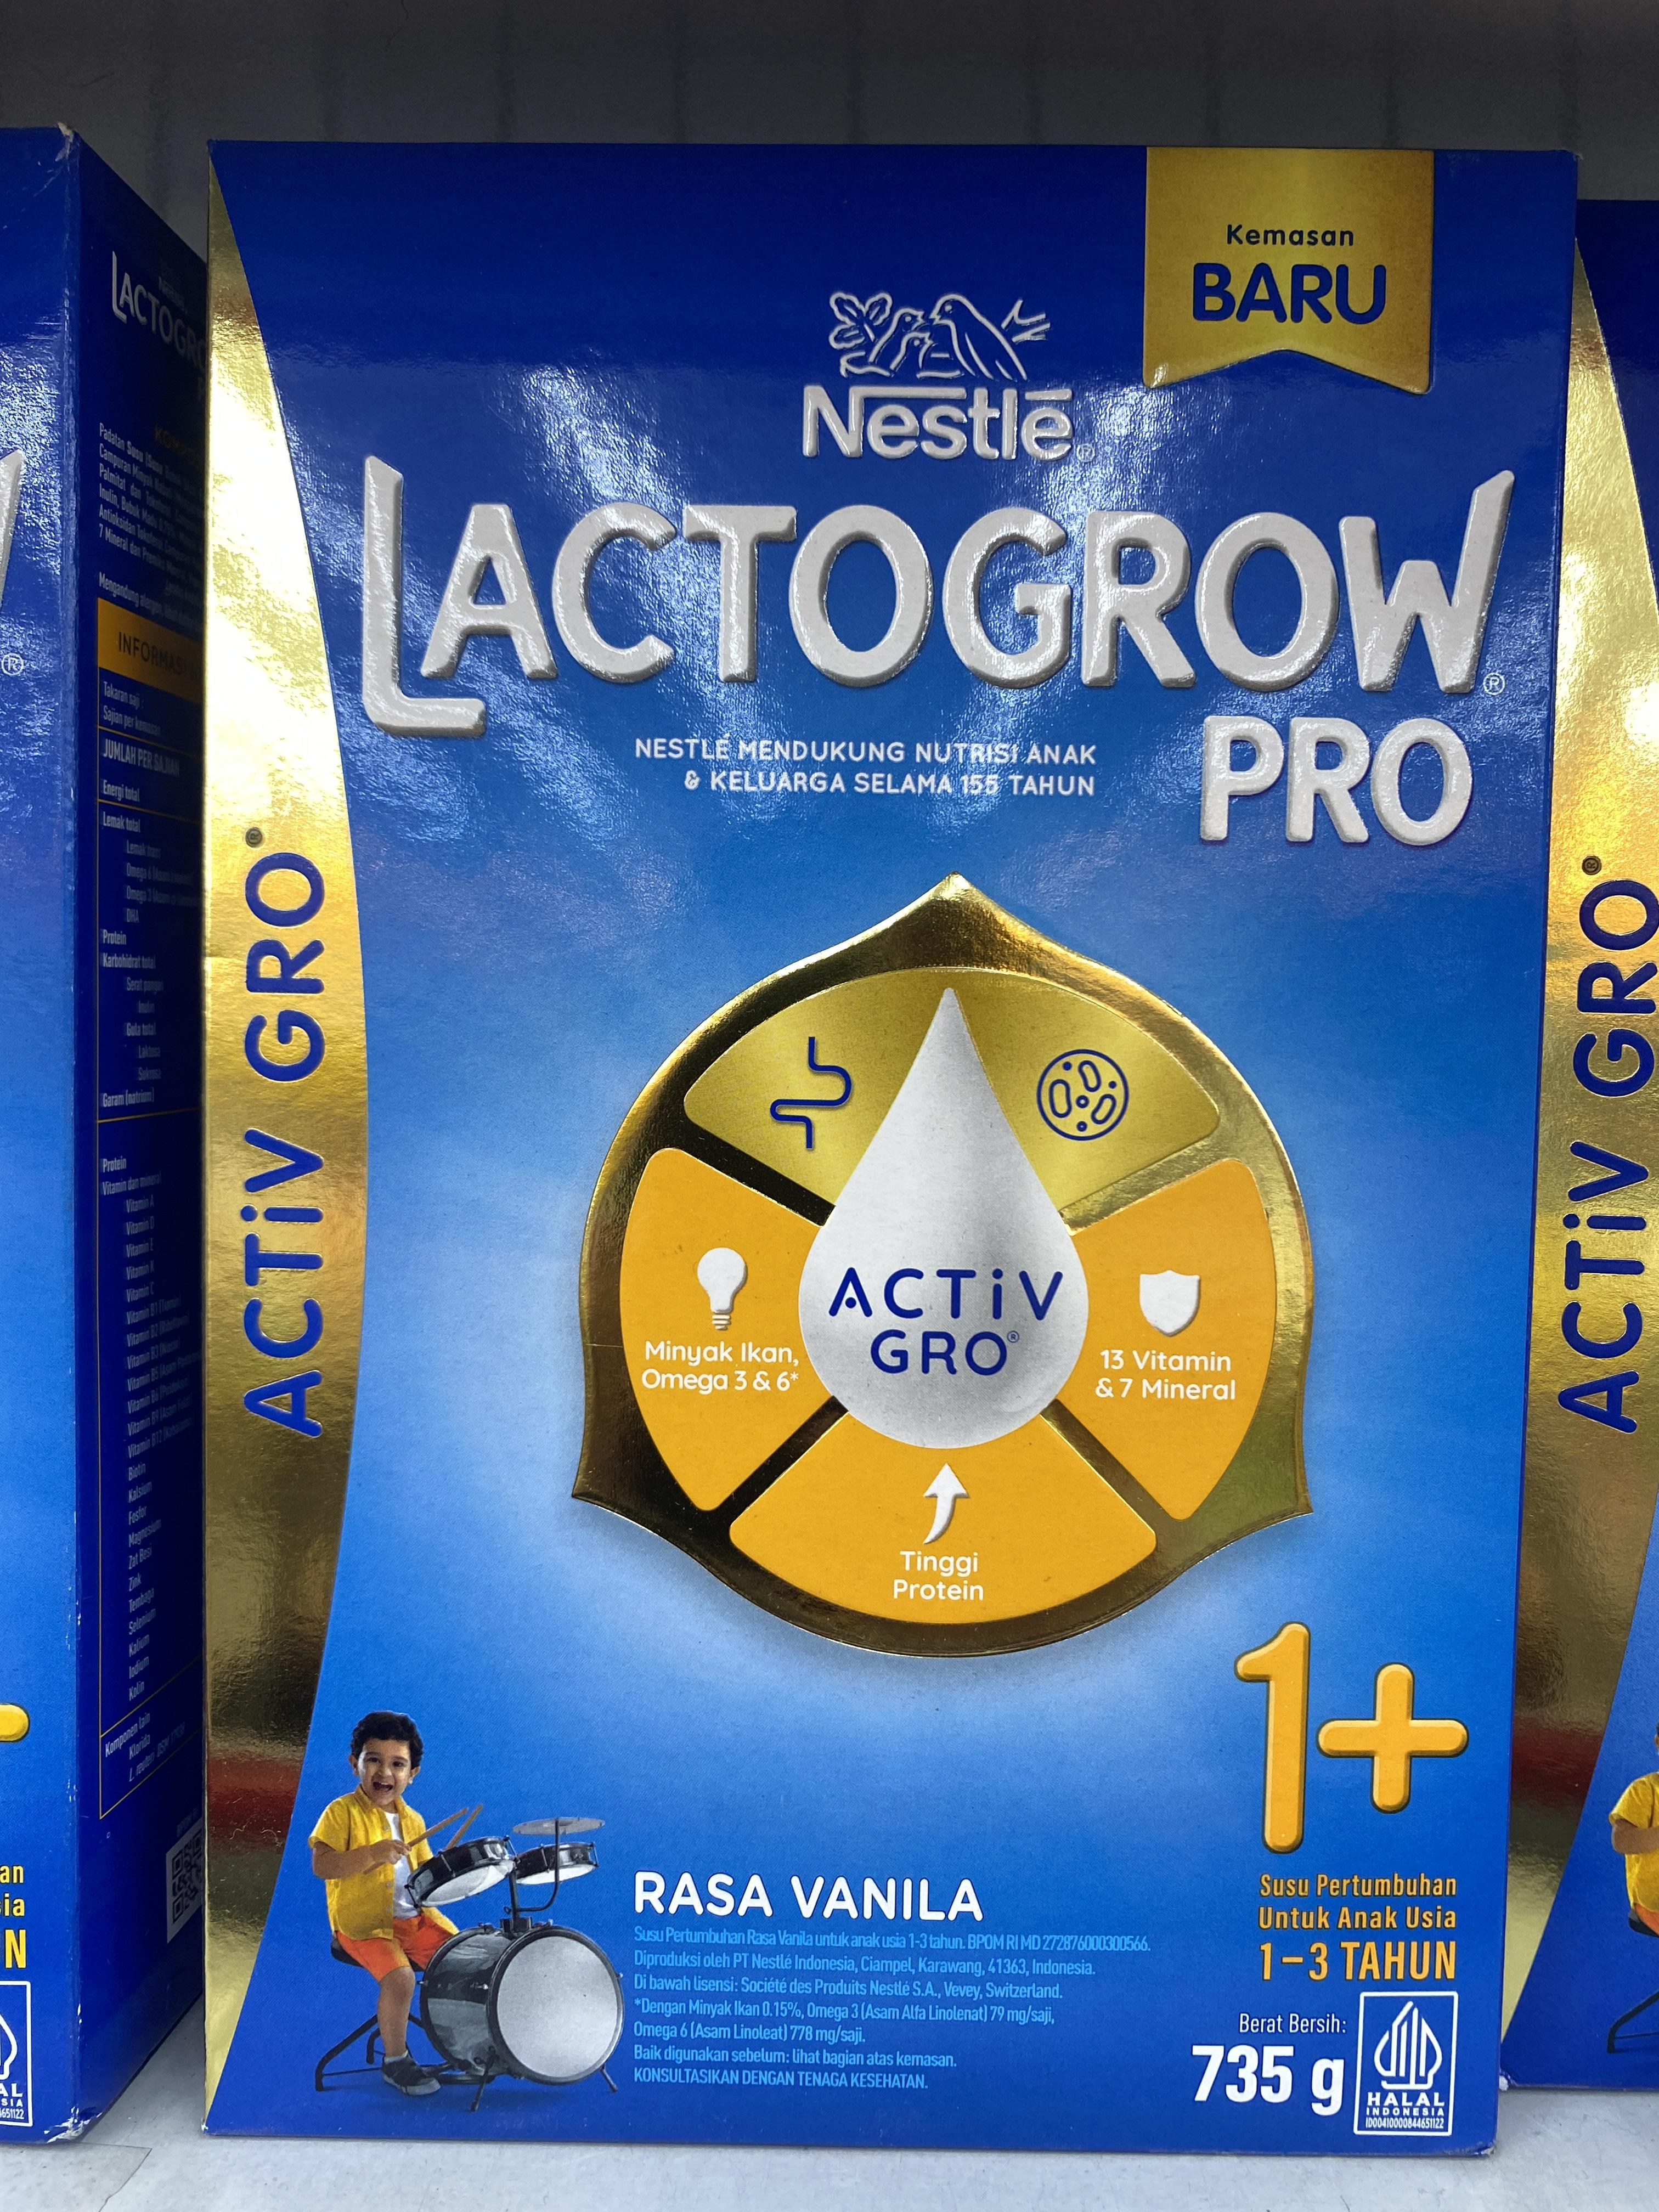LACTOGROW 3 Happynutri Honey 12x1kg N1 ID_REDESIGN2: (200, 138, 1582, 2153)
